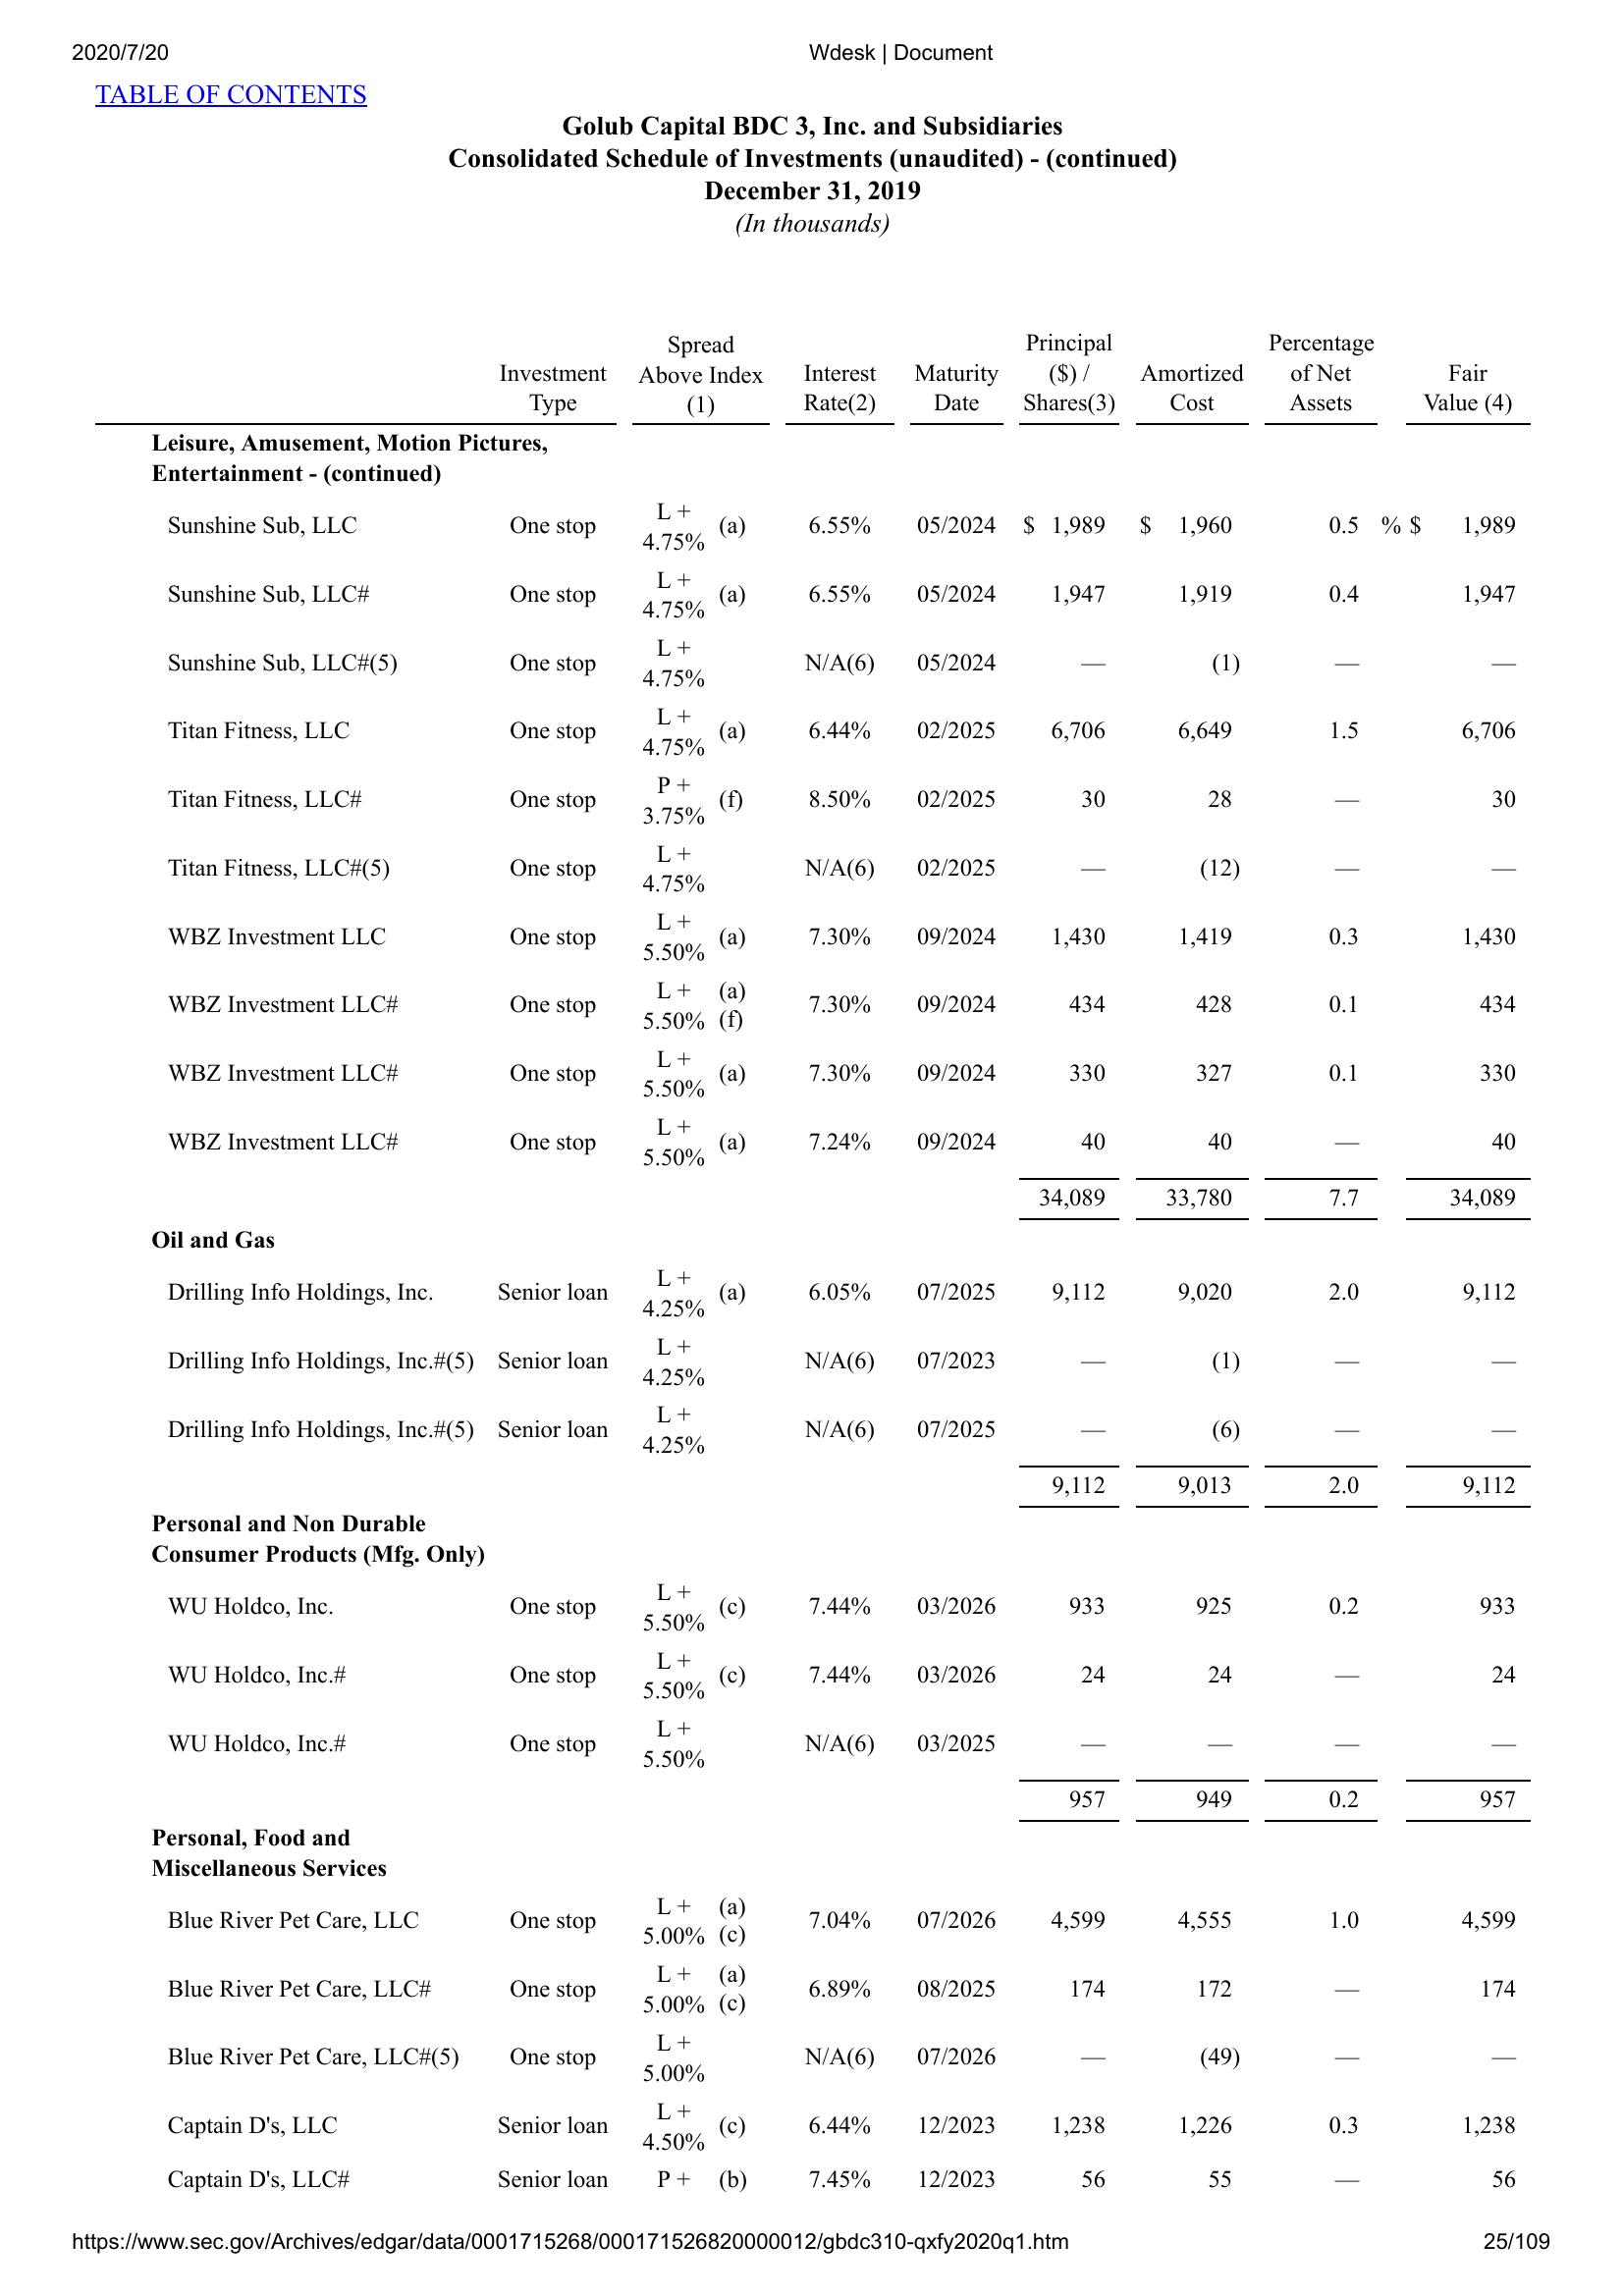table: (86, 323, 1544, 2208)
